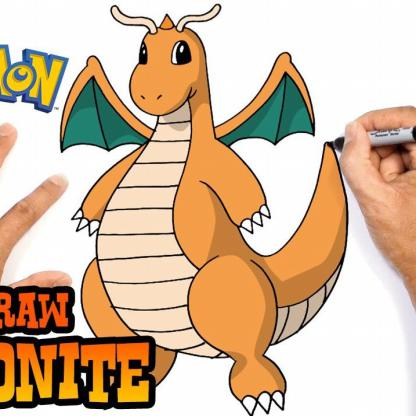Dragonite: (57, 8, 357, 414)
